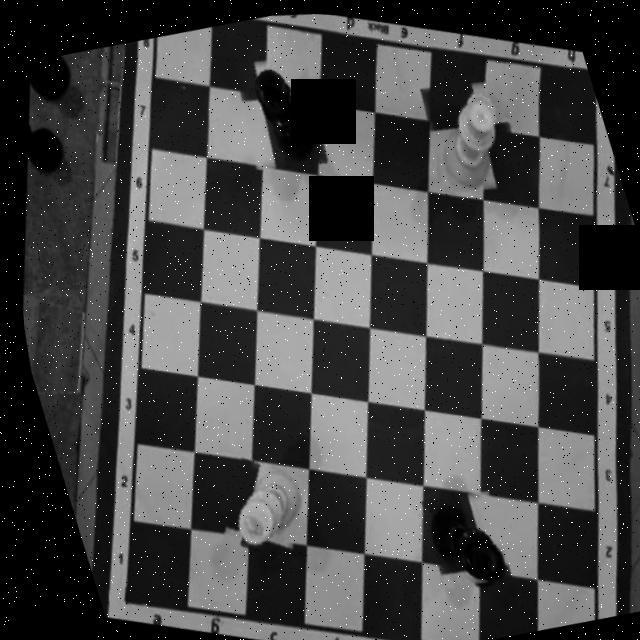chess-table-corners: (94, 578, 142, 621), (564, 48, 592, 86)
